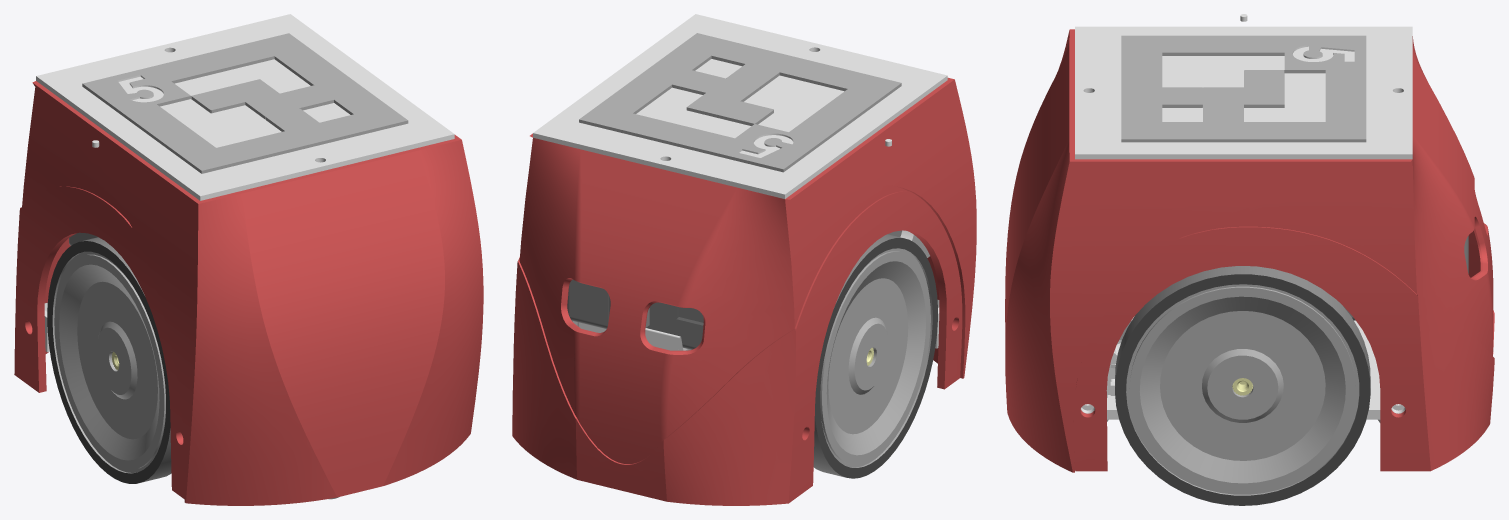
The model's file is robot-assembly-shell.glb.
3 renders of one model, left to right at view 1: azimuth 30°, elevation 25°; view 2: azimuth 150°, elevation 25°; view 3: azimuth 270°, elevation 25°, orthographic. The views are drawn at different scales.
Parts seen in each view (by area): view 1: cover-1, Aruco5-1, Wheel-1; view 2: cover-1, Aruco5-1, Wheel-1, batery-1, chasis-1; view 3: cover-1, Wheel-2, Aruco5-1, chasis-1, Servo-2.
Part boxes in pixels (box(x1,y1,x2,y2)): cover-1: box(14, 81, 483, 505); Aruco5-1: box(36, 14, 454, 200); Wheel-1: box(47, 237, 171, 483); cover-1: box(512, 77, 976, 505); Aruco5-1: box(533, 14, 947, 198); Wheel-1: box(813, 234, 937, 478); batery-1: box(567, 230, 902, 349); chasis-1: box(645, 230, 939, 350); cover-1: box(1005, 29, 1494, 472); Wheel-2: box(1115, 266, 1370, 505); Aruco5-1: box(1075, 14, 1412, 159); chasis-1: box(1081, 316, 1405, 419); Servo-2: box(1110, 340, 1253, 395).
Size of the model in its own units: 0.0992 by 0.1083 by 0.1378.
